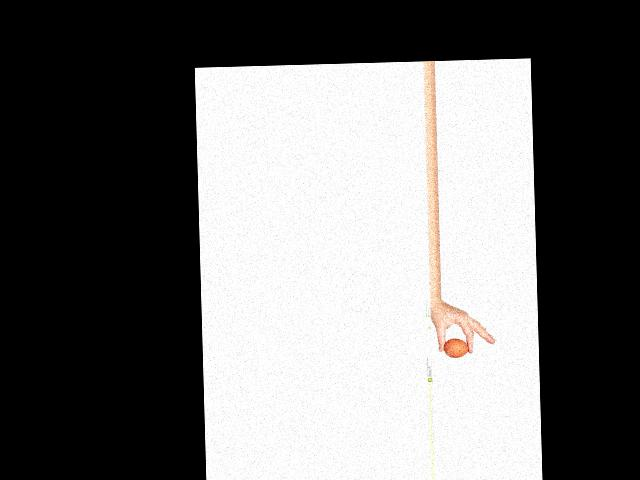egg: (442, 337, 468, 358)
